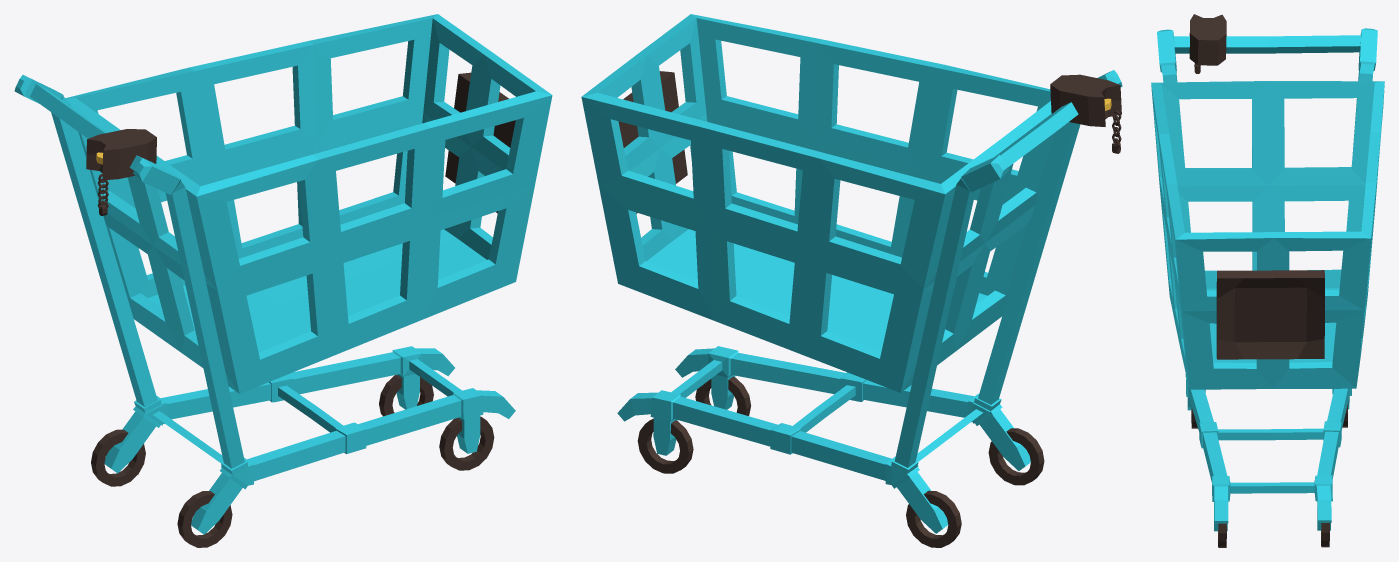
The model's file is cart_lightBlue.fbx.
3 renders of one model, left to right at view 1: azimuth 30°, elevation 25°; view 2: azimuth 150°, elevation 25°; view 3: azimuth 270°, elevation 25°, orthographic. The views are drawn at different scales.
Visible parts, largest first — view 1: Cart, chain_1; view 2: Cart, chain_1; view 3: Cart, chain_1.
Part boxes in pixels (x1=…): Cart: x1=14, y1=14, x2=552, y2=534; chain_1: x1=86, y1=72, x2=515, y2=547; Cart: x1=581, y1=14, x2=1122, y2=533; chain_1: x1=618, y1=71, x2=1121, y2=547; Cart: x1=1151, y1=28, x2=1384, y2=531; chain_1: x1=1189, y1=14, x2=1347, y2=547.
Size of the model in its own units: 121 by 109 by 62.35.
1 material, 1 textured.
